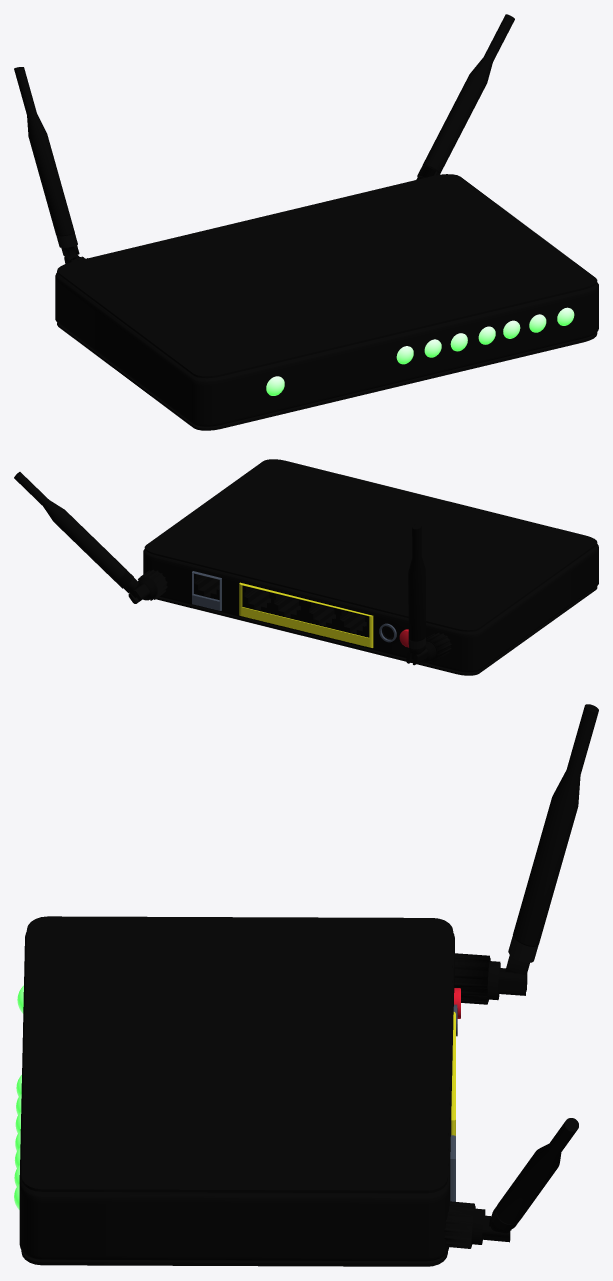
The model's file is router1.glb.
3 views of the same model, one above another, from view 1: azimuth 30°, elevation 25°; view 2: azimuth 150°, elevation 25°; view 3: azimuth 270°, elevation 25° (orthographic). The views are drawn at different scales.
Parts seen in each view (by area): view 1: Cube, Cylinder.003, Cylinder.001; view 2: Cube, Cube.011, Cylinder.003, Cylinder.001, Cube.008, Cylinder, Cylinder.002, Cube.010; view 3: Cube, Cylinder.001, Cylinder.003, Cylinder, Cylinder.002.
Part boxes in pixels (left/top/right/bottom): Cube: left=55, top=174, right=598, bottom=430; Cylinder.003: left=417, top=14, right=514, bottom=177; Cylinder.001: left=14, top=67, right=77, bottom=247; Cube: left=143, top=459, right=598, bottom=675; Cube.011: left=242, top=585, right=369, bottom=637; Cylinder.003: left=14, top=472, right=133, bottom=588; Cylinder.001: left=408, top=524, right=425, bottom=649; Cube.008: left=239, top=582, right=373, bottom=647; Cylinder: left=420, top=632, right=451, bottom=663; Cylinder.002: left=138, top=569, right=167, bottom=600; Cube.010: left=192, top=571, right=221, bottom=610; Cube: left=19, top=916, right=454, bottom=1266; Cylinder.001: left=508, top=704, right=598, bottom=962; Cylinder.003: left=492, top=1118, right=578, bottom=1230; Cylinder: left=454, top=953, right=500, bottom=1004; Cylinder.002: left=444, top=1201, right=485, bottom=1248.
Size of the model in its own units: 2.67 by 1.07 by 1.9.
